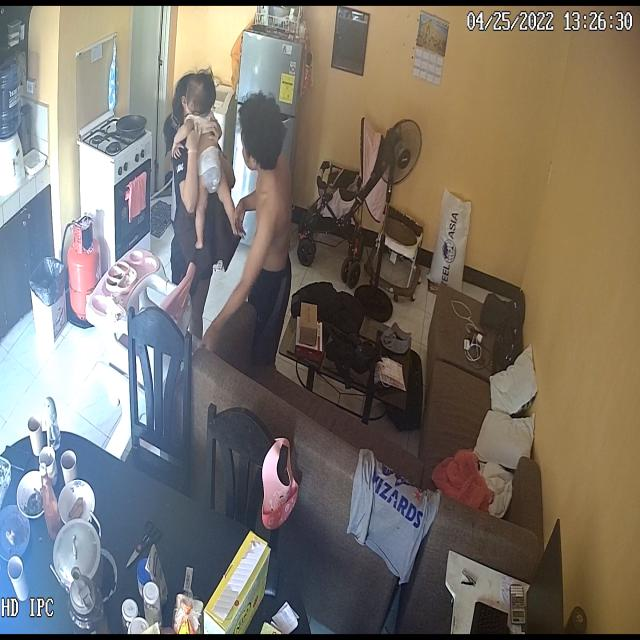adult: (196, 90, 294, 370), (155, 68, 230, 351)
child: (162, 69, 239, 254)
